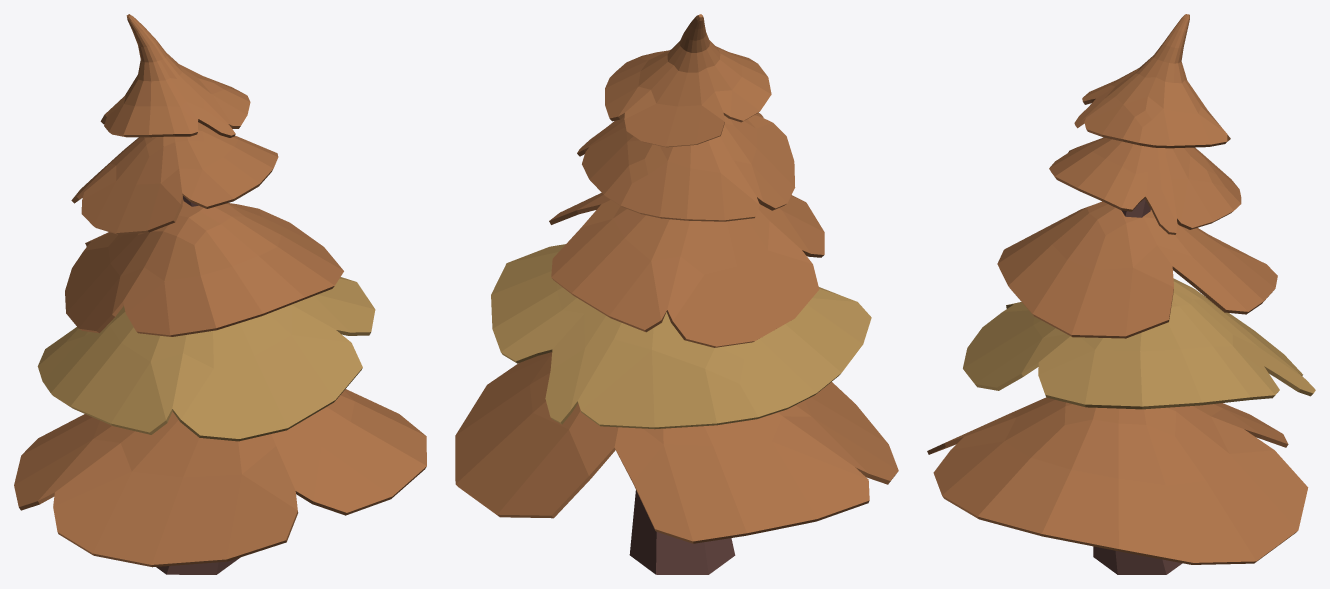
Rendered from pine_autumn1.glb.
The picture shows the model from 3 angles, left to right: view 1: azimuth 30°, elevation 25°; view 2: azimuth 150°, elevation 25°; view 3: azimuth 270°, elevation 25°; orthographic projection. The views are drawn at different scales.
Parts seen in each view (by area): view 1: PineTree_Autumn_1; view 2: PineTree_Autumn_1; view 3: PineTree_Autumn_1.
Part boxes in pixels (x1,y1,x2,y2): PineTree_Autumn_1: (14, 14, 426, 574); PineTree_Autumn_1: (455, 14, 898, 574); PineTree_Autumn_1: (927, 14, 1315, 574).
Bounding box in the file's own units: 1.96 × 2.7 × 1.82.
